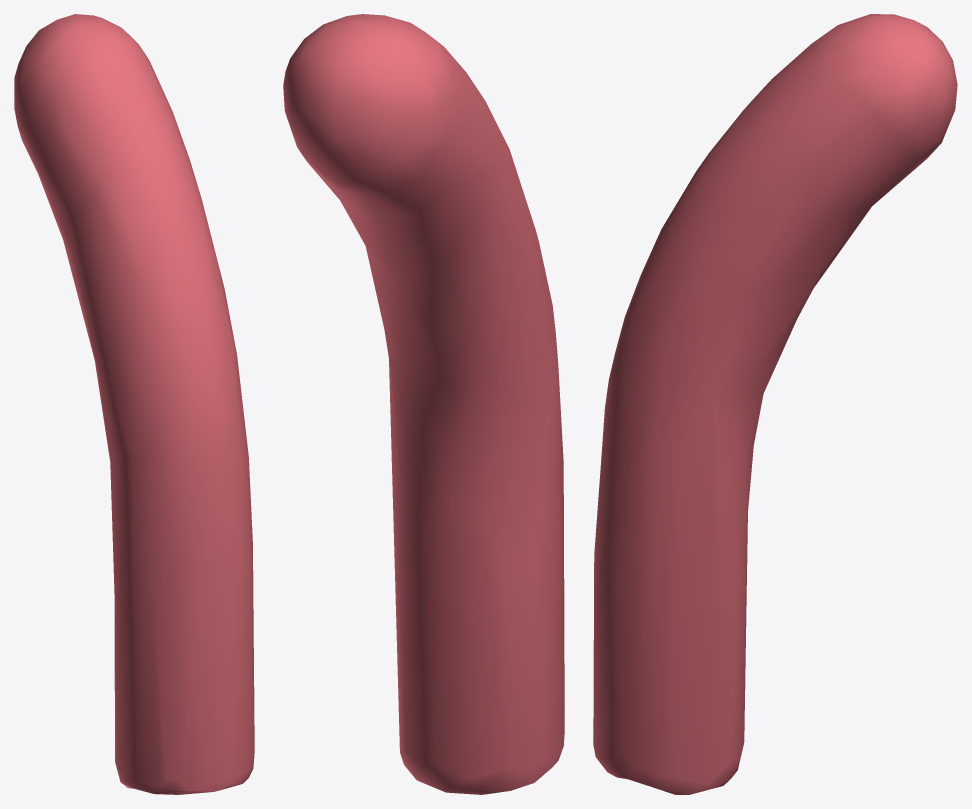
File: fma14750.glb
3 views of the same model, side by side, from view 1: azimuth 30°, elevation 25°; view 2: azimuth 150°, elevation 25°; view 3: azimuth 270°, elevation 25° (orthographic). The views are drawn at different scales.
Visible parts, largest first — view 1: FMA14750; view 2: FMA14750; view 3: FMA14750.
Part boxes in pixels (box(x1,y1,x2,y2)): FMA14750: box(14, 14, 254, 794); FMA14750: box(283, 14, 564, 794); FMA14750: box(593, 14, 957, 794).
Bounding box in the file's own units: 0.0105 × 0.0543 × 0.0239.
